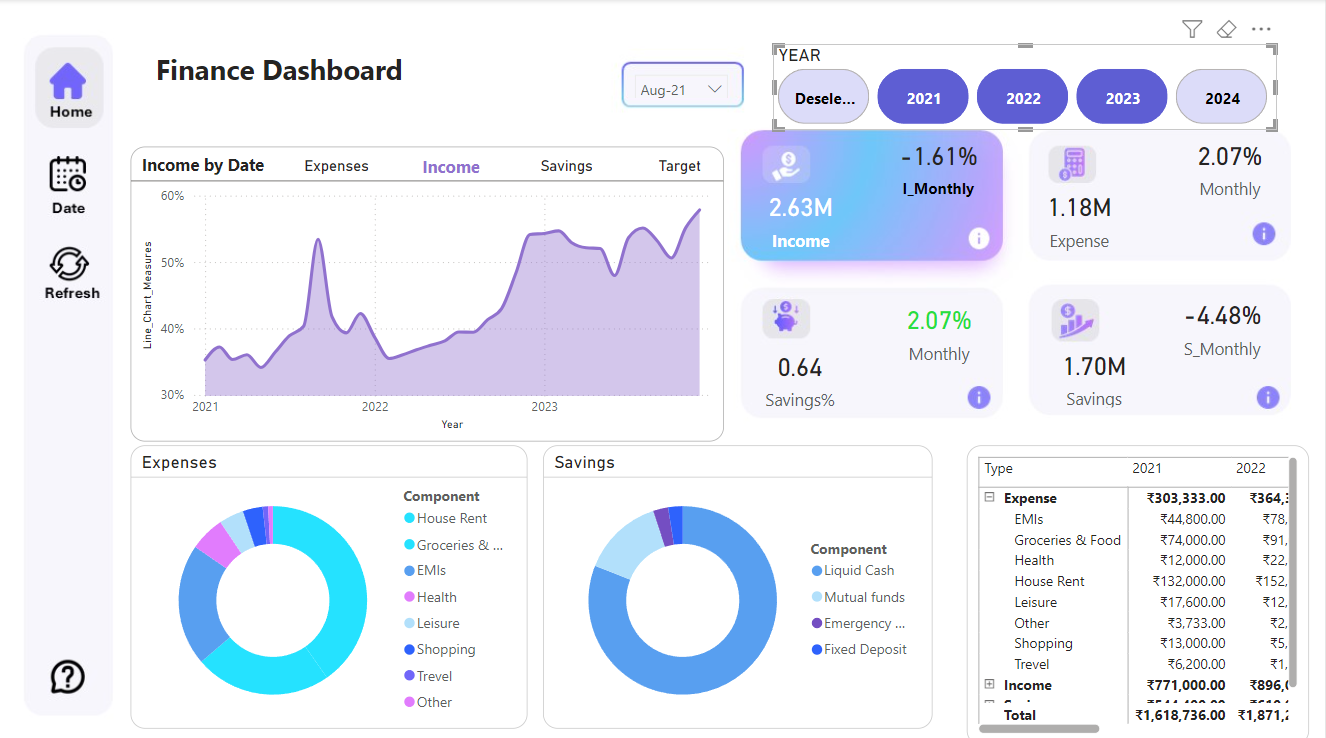

This screenshot's page, from the dashboard's own definition file:
{"tool":"powerbi","page":{"name":"Page 1","canvas":[1280,720],"ordinal":0},"visuals":[{"type":"advancedSlicerVisual","fields":{"Values":["Dataset.YEAR"]},"box":[747.9,43.9,485.8,82.3],"z":0},{"type":"donutChart","title":"Savings ","fields":{"Y":["Dataset.Savings"],"Category":["Dataset.Component"]},"box":[526,430.5,376.3,273.7],"z":2000},{"type":"donutChart","title":"Expenses","fields":{"Y":["Dataset.Expense"],"Category":["Dataset.Component"]},"box":[128.3,430.5,383.4,273.7],"z":4000},{"type":"card","fields":{"Values":["Dataset.Expense"]},"box":[976.4,171,135.4,79.8],"z":5000},{"type":"lineChart","fields":{"Category":["Dataset.Date.Variation.Date Hierarchy.Year","Dataset.Date.Variation.Date Hierarchy.Quarter","Dataset.Date.Variation.Date Hierarchy.Month","Dataset.Date.Variation.Date Hierarchy.Day"],"Y":["Dataset.Line_Chart_Measures"]},"box":[127.9,142.4,573.1,284.7],"z":6000},{"type":"card","fields":{"Values":["Dataset.Savings"]},"box":[1005,329.4,106.2,70],"z":7000},{"type":"card","fields":{"Values":["Dataset.Savings%"]},"box":[714.1,320.7,119.7,88.4],"z":8000},{"type":"pivotTable","fields":{"Rows":["Dataset.Type","Dataset.Component"],"Columns":["Dataset.YEAR"],"Values":["Dataset.Total_Value"]},"box":[935.1,430.5,330.7,289.4],"z":9000},{"type":"advancedSlicerVisual","fields":{"Values":["Line_Selection_Table.Type"]},"box":[277.5,130.3,460.9,62.7],"z":10000},{"type":"textbox","box":[146.8,44.2,260.8,51.3],"z":11000},{"type":"slicer","fields":{"Values":["Selected_Date.Month-yr"]},"box":[604.4,62.7,109.8,32.8],"z":12000},{"type":"card","fields":{"Values":["Dataset.Expenses_Monthly_Gr"]},"box":[826.4,267.8,164.1,105],"z":13000},{"type":"card","fields":{"Values":["Dataset.Income"]},"box":[691.3,171,166.8,79.8],"z":14000},{"type":"card","fields":{"Values":["Dataset.Income_Monthly_Gr"]},"box":[832.4,71.2,150.8,179.8],"z":15000},{"type":"card","fields":{"Values":["Dataset.Savings_Monthly_Gr"]},"box":[1083.4,271.4,196.6,88.1],"z":16000},{"type":"card","fields":{"Values":["Dataset.Expenses_Monthly_Gr"]},"box":[1097.9,100.1,182.2,123.1],"z":17000}]}

Visuals, with their boxes on the page's 1280x720 design canvas (x1, y1, x2, y2). These are canvas units, not pixel positions in the 1326x738 screenshot, which may show the page scaled, cropped or inside an application window:
advancedSlicerVisual - Dataset.YEAR: <box>748,44,1234,126</box>
"Savings " donutChart: <box>526,430,902,704</box>
"Expenses" donutChart: <box>128,430,512,704</box>
card - Dataset.Expense: <box>976,171,1112,251</box>
lineChart - Dataset.Date.Variation.Date Hierarchy.Year x Dataset.Date.Variation.Date Hierarchy.Quarter: <box>128,142,701,427</box>
card - Dataset.Savings: <box>1005,329,1111,399</box>
card - Dataset.Savings%: <box>714,321,834,409</box>
pivotTable - Dataset.Type x Dataset.Component: <box>935,430,1266,720</box>
advancedSlicerVisual - Line_Selection_Table.Type: <box>278,130,738,193</box>
textbox: <box>147,44,408,96</box>
slicer - Selected_Date.Month-yr: <box>604,63,714,96</box>
card - Dataset.Expenses_Monthly_Gr: <box>826,268,990,373</box>
card - Dataset.Income: <box>691,171,858,251</box>
card - Dataset.Income_Monthly_Gr: <box>832,71,983,251</box>
card - Dataset.Savings_Monthly_Gr: <box>1083,271,1280,360</box>
card - Dataset.Expenses_Monthly_Gr: <box>1098,100,1280,223</box>
